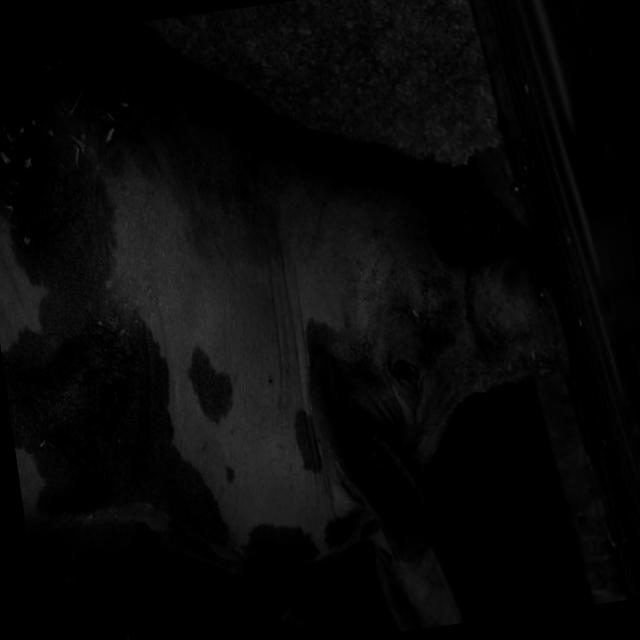pig: (0, 33, 572, 628)
